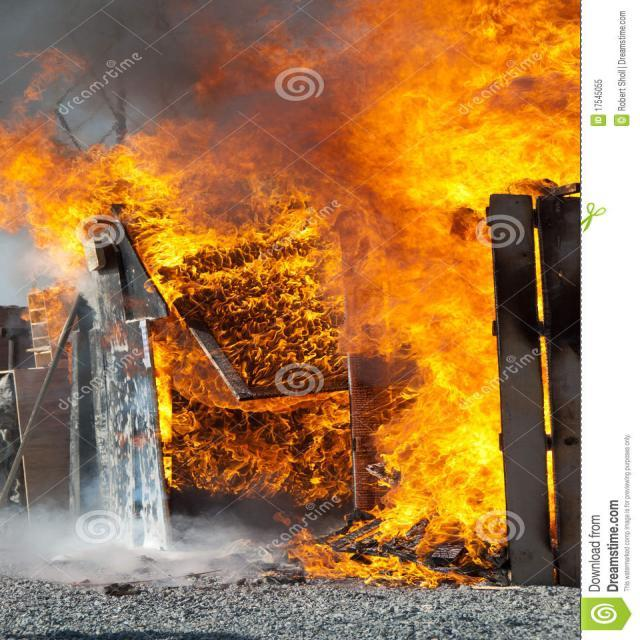Fire: (141, 196, 504, 495), (142, 1, 584, 192), (288, 500, 507, 584), (5, 121, 136, 252)
Smoke: (4, 506, 273, 591)
